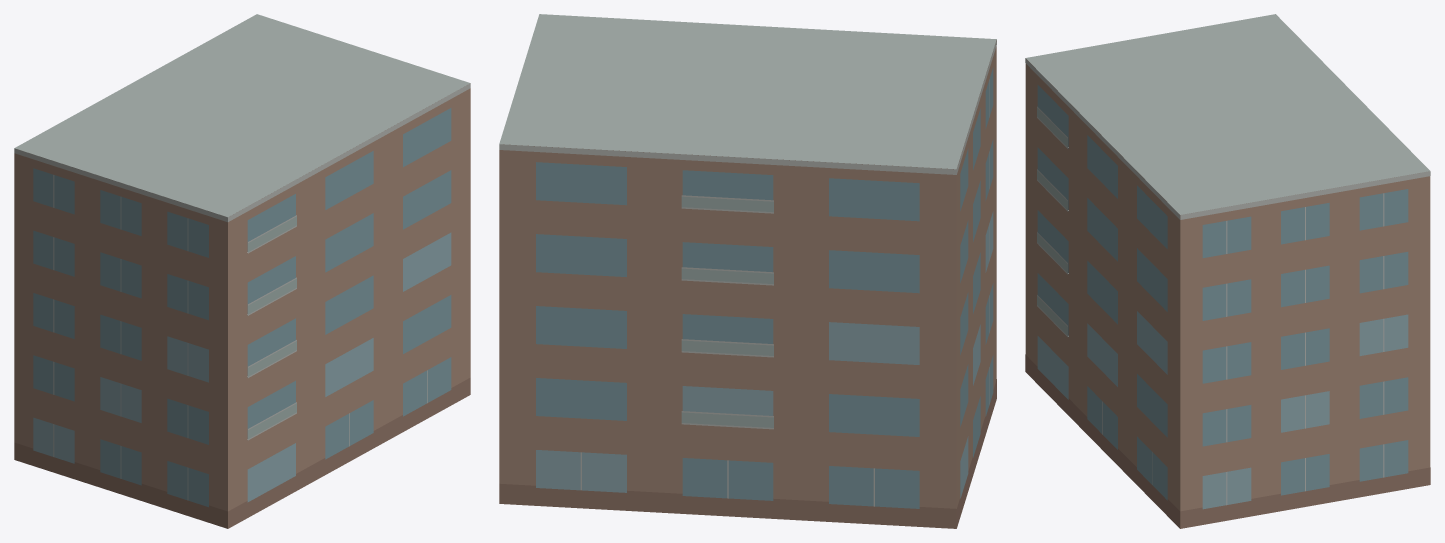
Rendered from residential-9626d6b4-4081-4d6e-99f4-5cc69d4df3ff.glb.
The picture shows the model from 3 angles, left to right: view 1: azimuth 30°, elevation 25°; view 2: azimuth 150°, elevation 25°; view 3: azimuth 270°, elevation 25°; orthographic projection. The views are drawn at different scales.
Visible parts, largest first — view 1: residential-9626d6b4-4081-4d6e-99f4-5cc69d4df3ff.tmp; view 2: residential-9626d6b4-4081-4d6e-99f4-5cc69d4df3ff.tmp; view 3: residential-9626d6b4-4081-4d6e-99f4-5cc69d4df3ff.tmp.
Part boxes in pixels (x1=…): residential-9626d6b4-4081-4d6e-99f4-5cc69d4df3ff.tmp: x1=14, y1=14, x2=470, y2=528; residential-9626d6b4-4081-4d6e-99f4-5cc69d4df3ff.tmp: x1=499, y1=14, x2=996, y2=528; residential-9626d6b4-4081-4d6e-99f4-5cc69d4df3ff.tmp: x1=1025, y1=14, x2=1430, y2=528.
Size of the model in its own units: 20.96 by 15.25 by 17.84.
